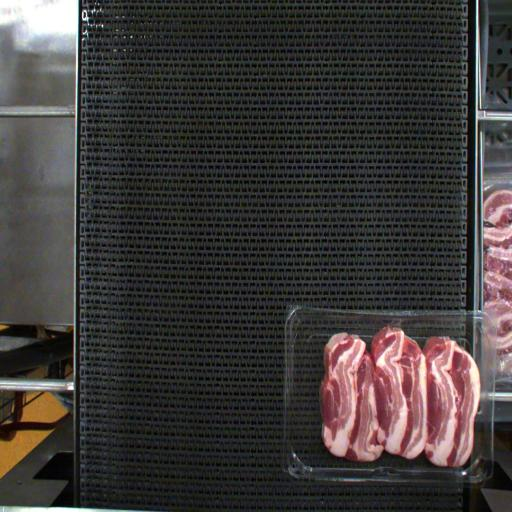packaging-error: (390, 316, 406, 330)
wrinkle: (414, 409, 448, 439)
